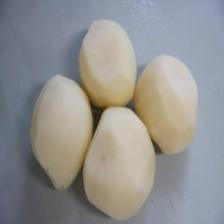Potato: (84, 104, 157, 224), (27, 73, 94, 194), (134, 52, 198, 154), (79, 17, 136, 108)
